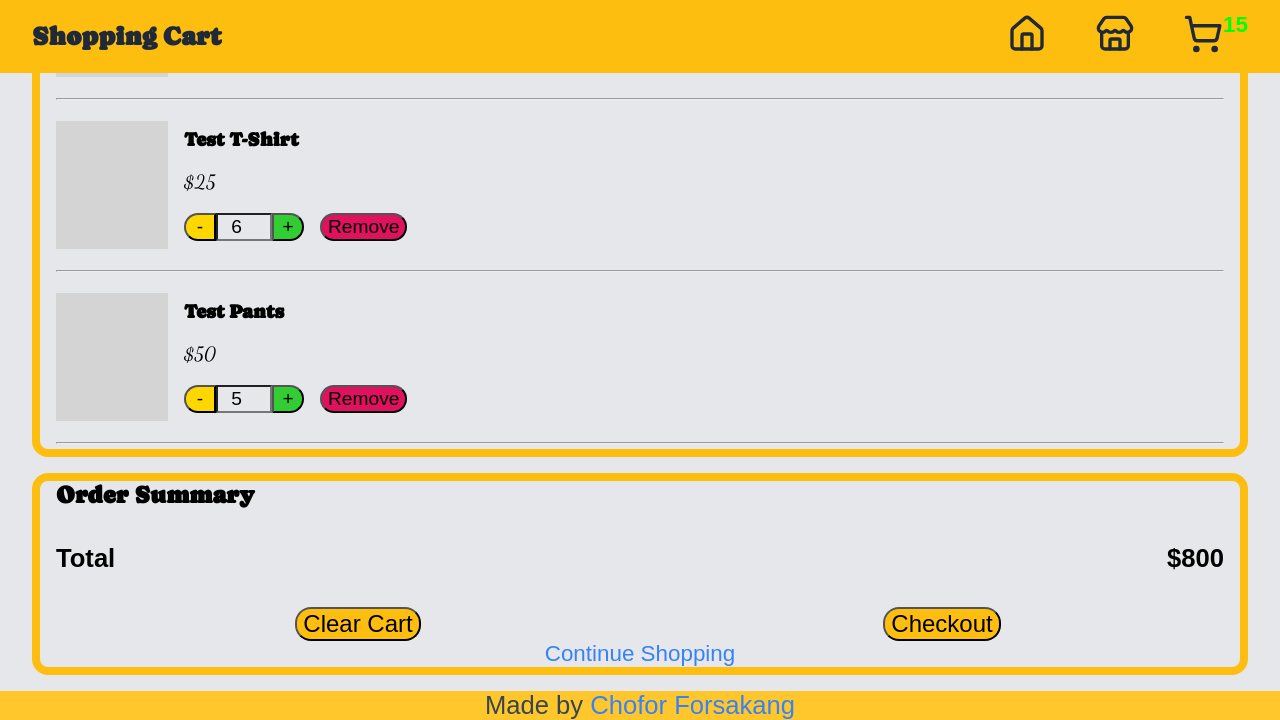
Testing Cart page › Clear Card button check
(page scrolled)
Click the button with aria-label "Clear-Cart" at {"x": 358, "y": 624}, box [295,607,421,641]
(page scrolled)
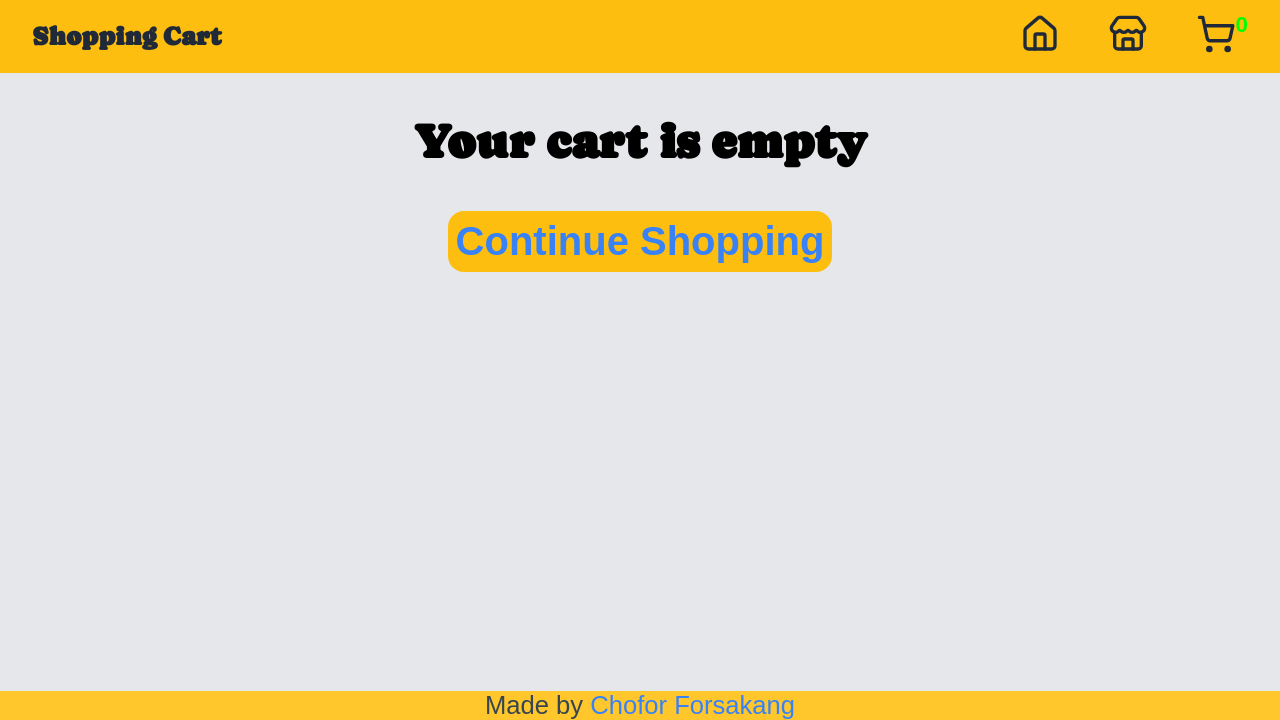
Check: the message reads "0", box [1236,11,1248,36]
